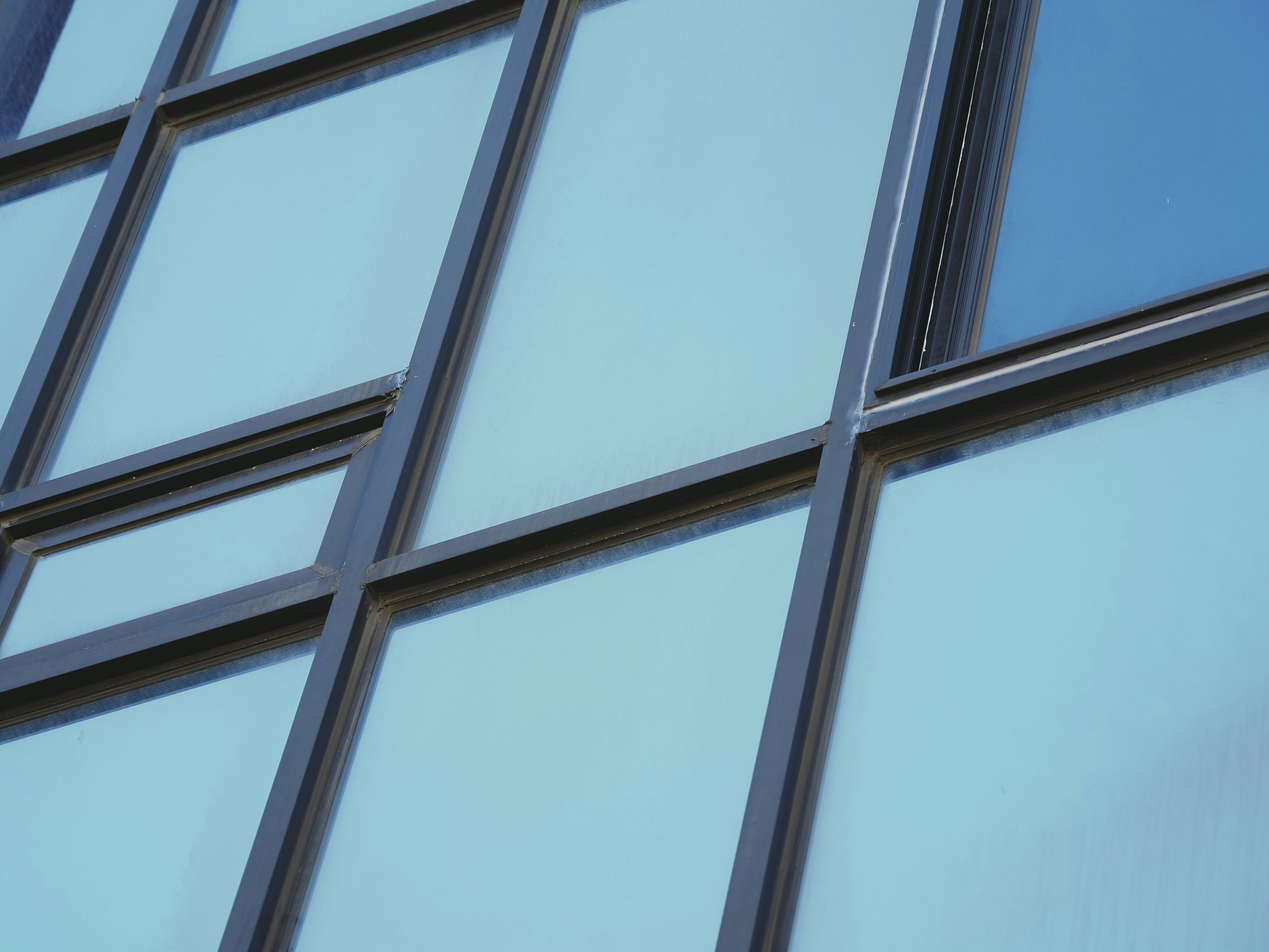glass panel: (791, 360, 1269, 952), (417, 0, 916, 545), (296, 495, 806, 952), (45, 25, 512, 477), (978, 0, 1269, 349), (0, 643, 311, 952), (0, 468, 344, 657), (0, 160, 108, 419), (0, 0, 174, 140), (205, 0, 418, 74)
